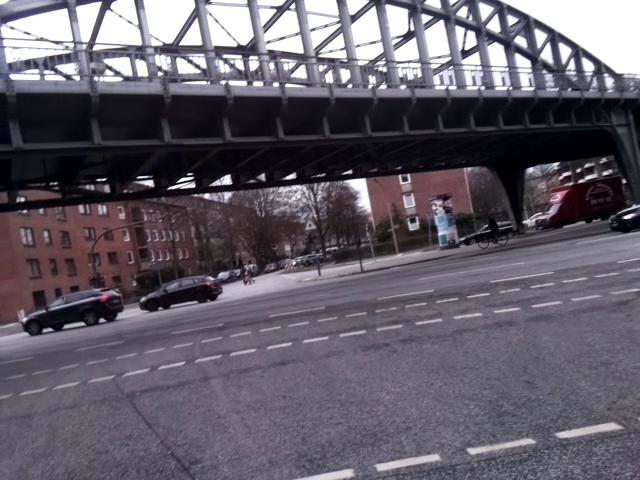car: (19, 288, 130, 329), (133, 272, 233, 310)
